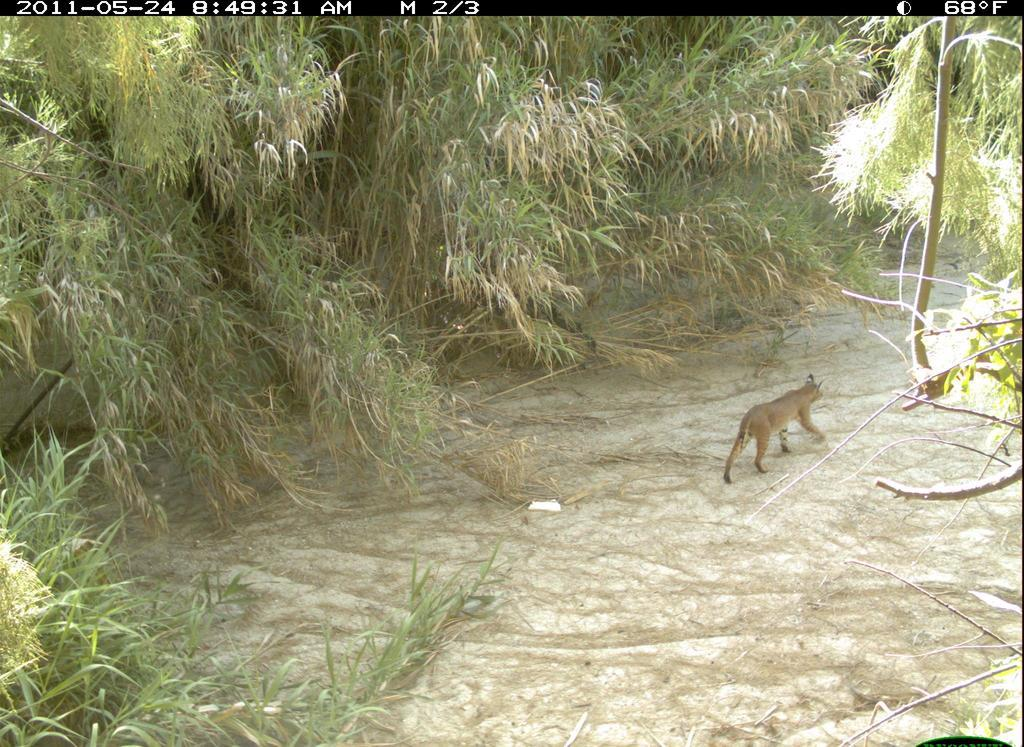bobcat: (715, 368, 836, 486)
